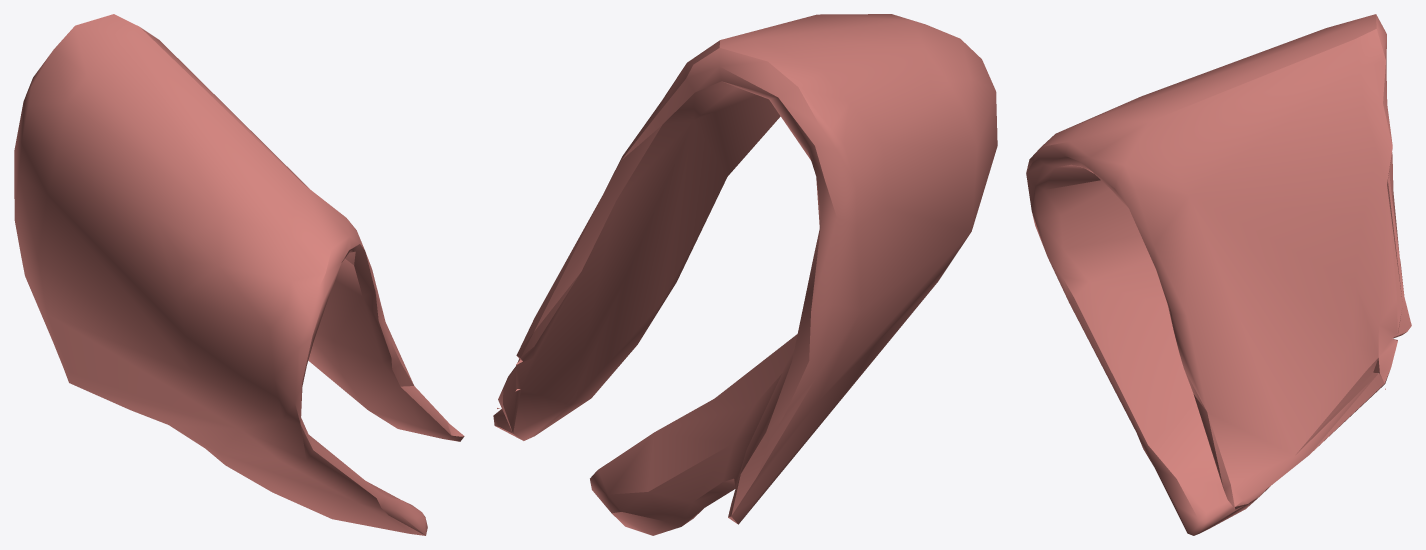
File: fma258850_fj1581.glb
The picture shows the model from 3 angles, left to right: view 1: azimuth 30°, elevation 25°; view 2: azimuth 150°, elevation 25°; view 3: azimuth 270°, elevation 25°; orthographic projection. The views are drawn at different scales.
Visible parts, largest first — view 1: FMA258850_FJ1581; view 2: FMA258850_FJ1581; view 3: FMA258850_FJ1581.
Boxes of the visible parts, box(x1,y1,x2,y2) form: FMA258850_FJ1581: box(14, 14, 464, 535); FMA258850_FJ1581: box(493, 14, 997, 535); FMA258850_FJ1581: box(1026, 14, 1411, 535).
Bounding box in the file's own units: 0.00627 × 0.00793 × 0.00657.
